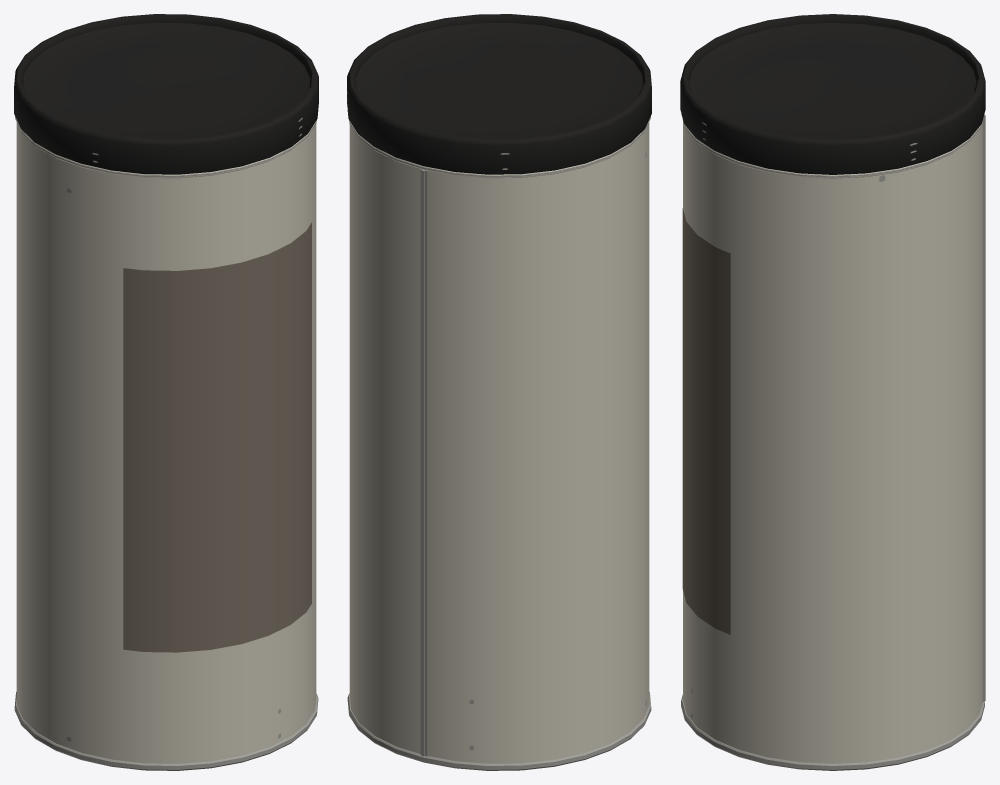
Rendered from pantry-oat-canister-3c461de37bca.glb.
The picture shows the model from 3 angles, left to right: view 1: azimuth 30°, elevation 25°; view 2: azimuth 150°, elevation 25°; view 3: azimuth 270°, elevation 25°; orthographic projection.
Visible parts, largest first — view 1: enamel, cover-print, enamel-black, brushed; view 2: enamel, enamel-black, brushed; view 3: enamel, enamel-black, cover-print, brushed.
Boxes of the visible parts, bbox=[...] form: enamel: bbox=[16, 121, 316, 763]; cover-print: bbox=[123, 222, 311, 652]; enamel-black: bbox=[14, 14, 318, 174]; brushed: bbox=[14, 116, 318, 770]; enamel: bbox=[349, 121, 649, 763]; enamel-black: bbox=[347, 14, 651, 174]; brushed: bbox=[347, 92, 651, 770]; enamel: bbox=[683, 121, 982, 763]; enamel-black: bbox=[680, 14, 985, 174]; cover-print: bbox=[682, 208, 730, 634]; brushed: bbox=[681, 114, 985, 770].
Bounding box in the file's own units: 0.156 × 0.355 × 0.156.
